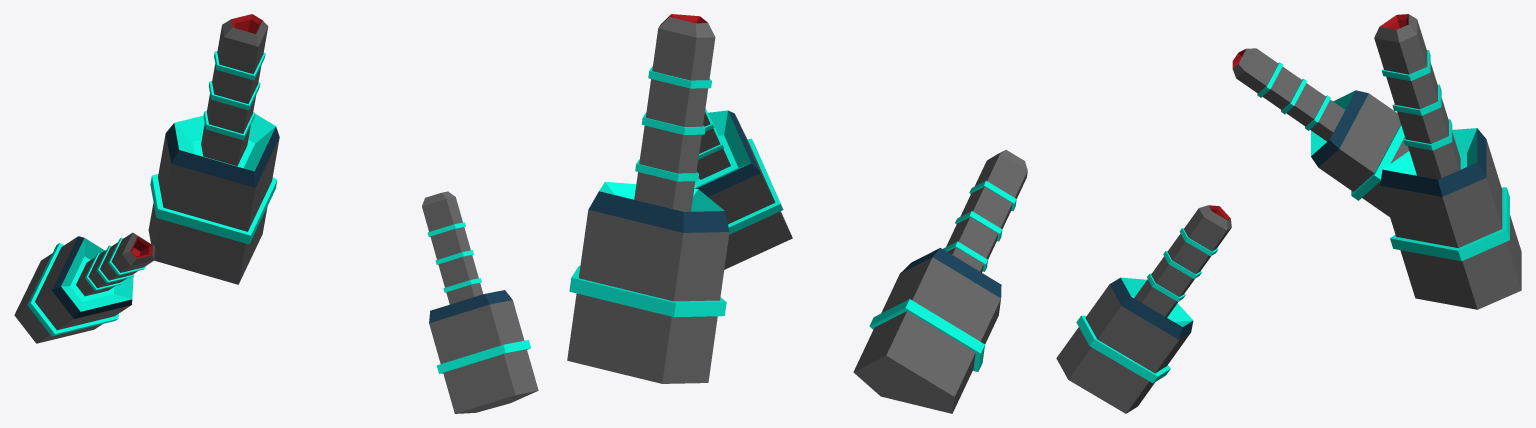
The model's file is GunCluster.02.fbx.
The picture shows the model from 3 angles, left to right: view 1: azimuth 30°, elevation 25°; view 2: azimuth 150°, elevation 25°; view 3: azimuth 270°, elevation 25°; orthographic projection. The views are drawn at different scales.
Parts seen in each view (by area): view 1: GunCluster_02_LOD0; view 2: GunCluster_02_LOD0; view 3: GunCluster_02_LOD0.
Part boxes in pixels (x1,y1,x2,y2): GunCluster_02_LOD0: [14, 14, 538, 413]; GunCluster_02_LOD0: [567, 14, 1027, 413]; GunCluster_02_LOD0: [1056, 14, 1521, 413].
Size of what is drawn, in the model's own units: 3922 by 3364 by 4230.
Materials: 1 (1 with a texture image).
